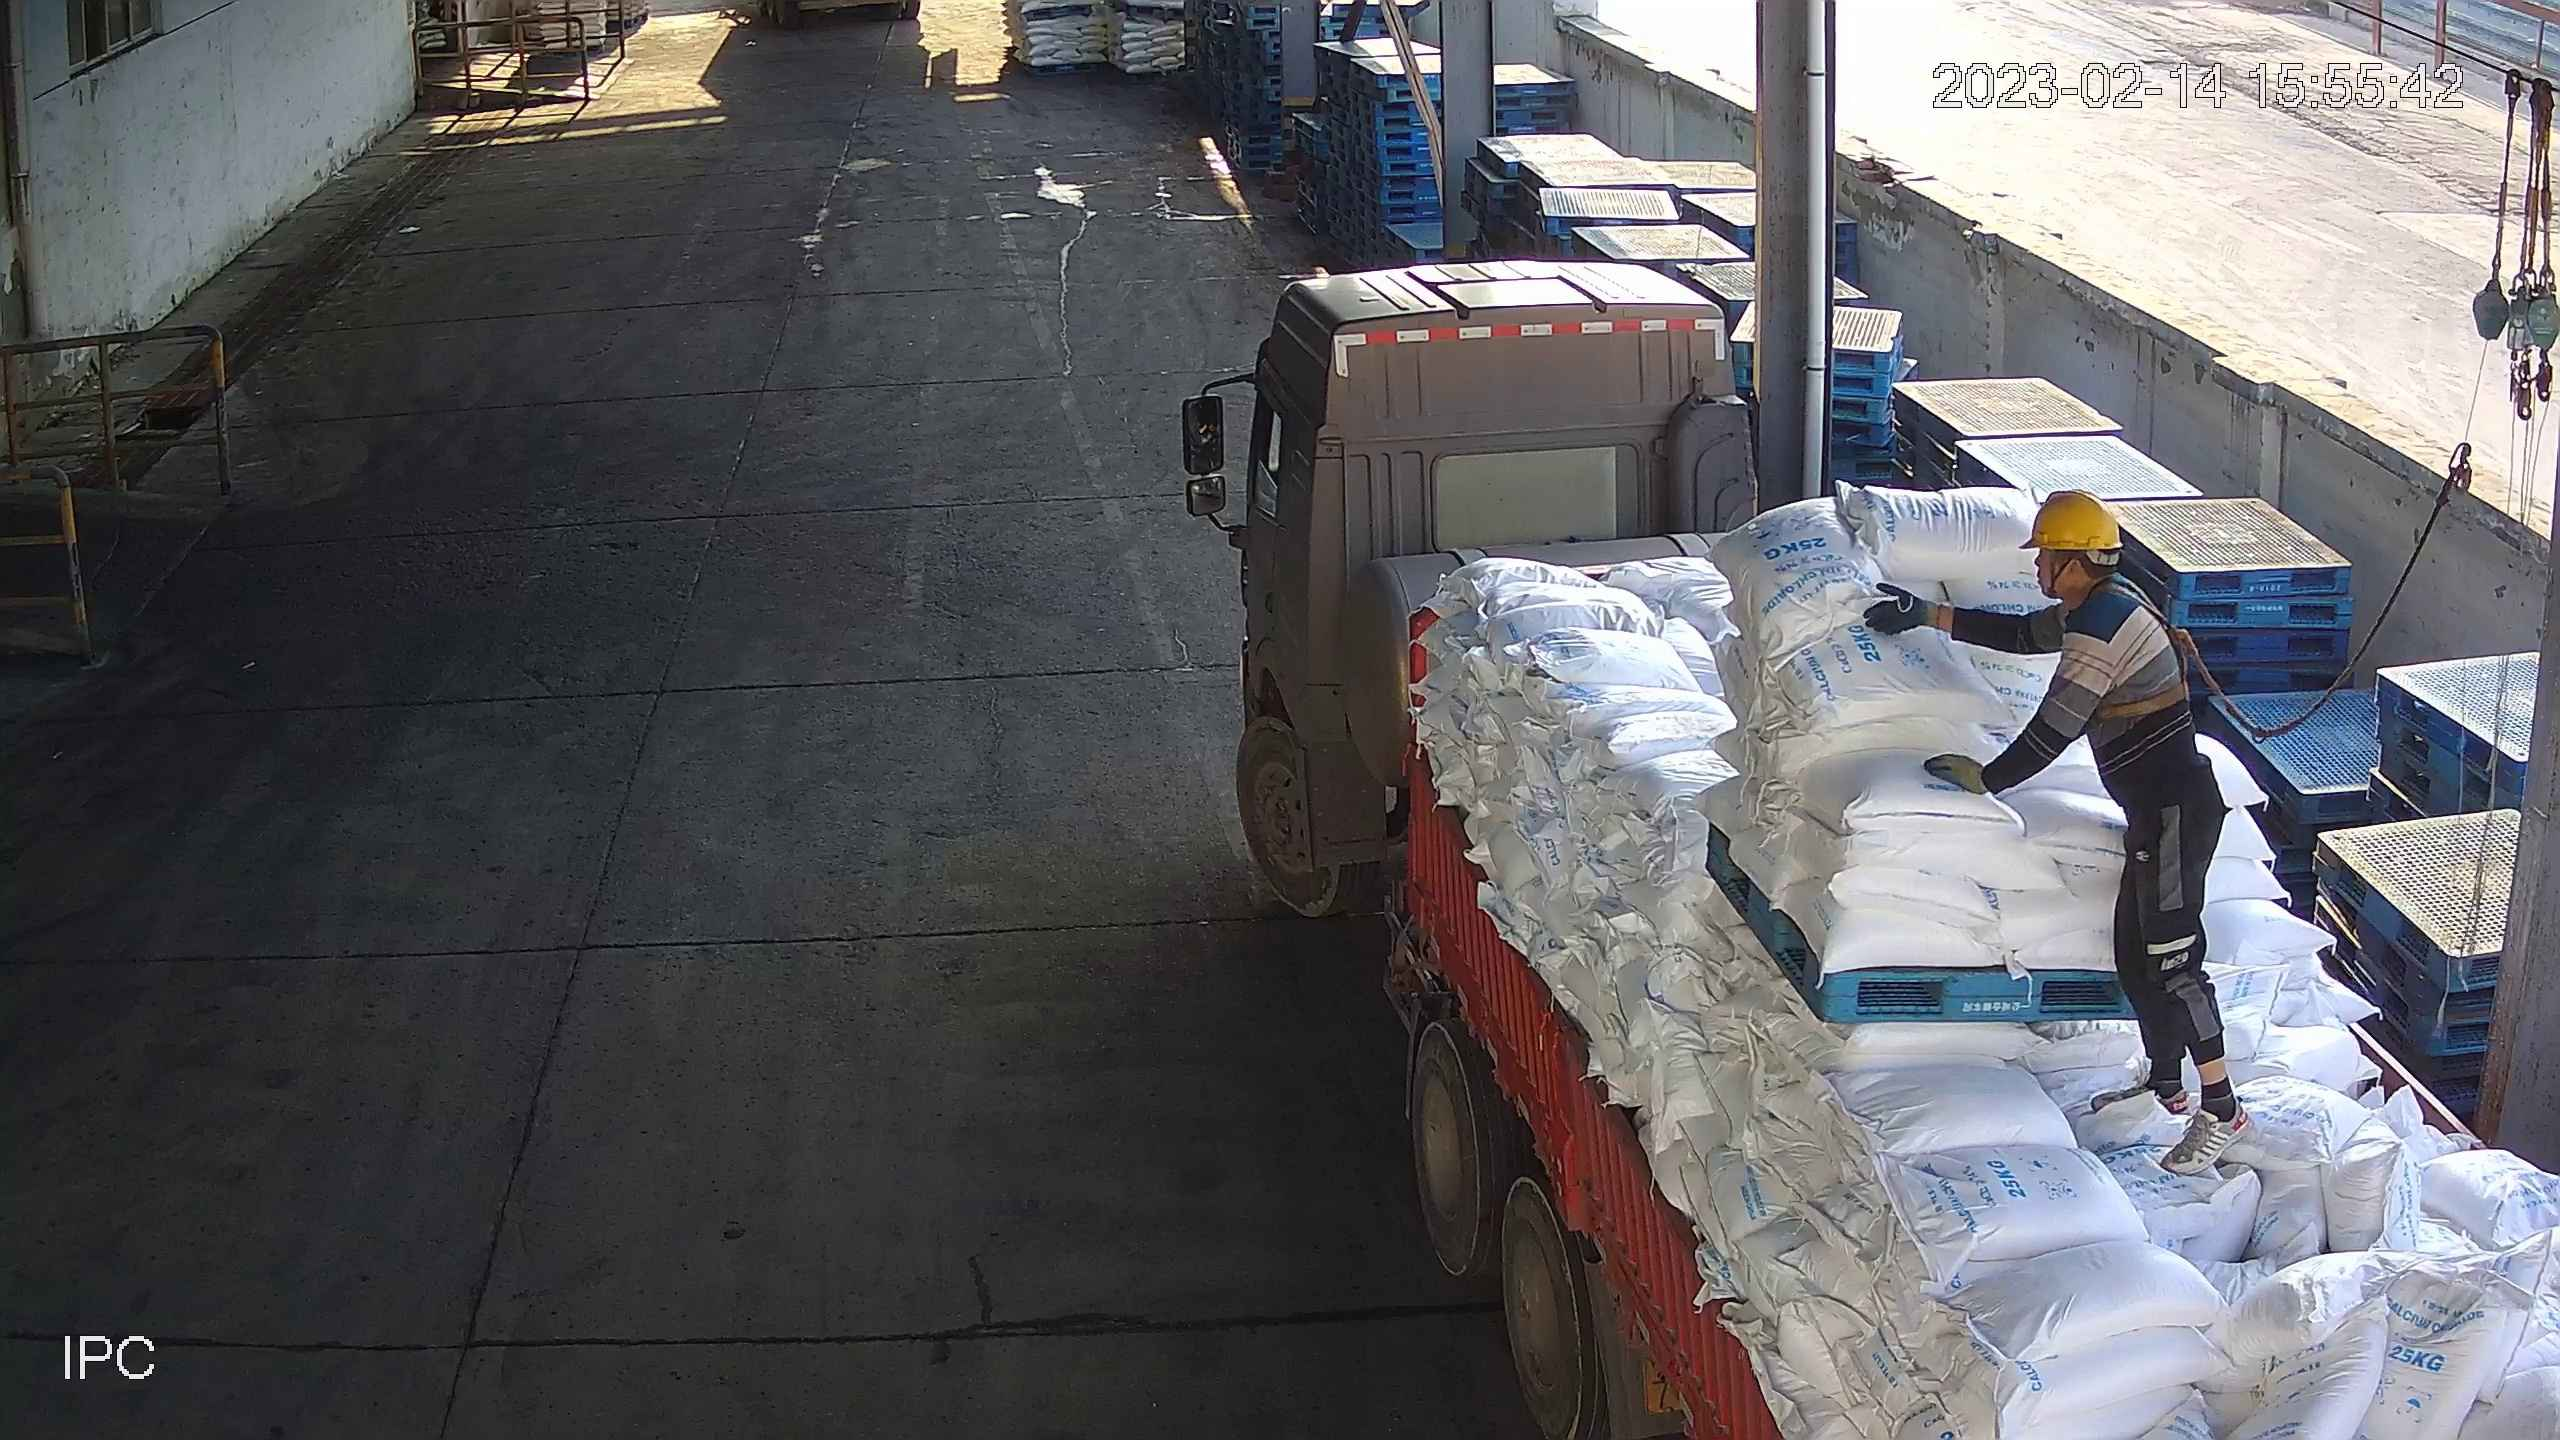belt: (2079, 579, 2209, 725)
head: (2021, 488, 2162, 653)
helmet: (2028, 486, 2123, 557)
people: (1870, 485, 2255, 1178)
truck: (1188, 253, 2560, 1440)
